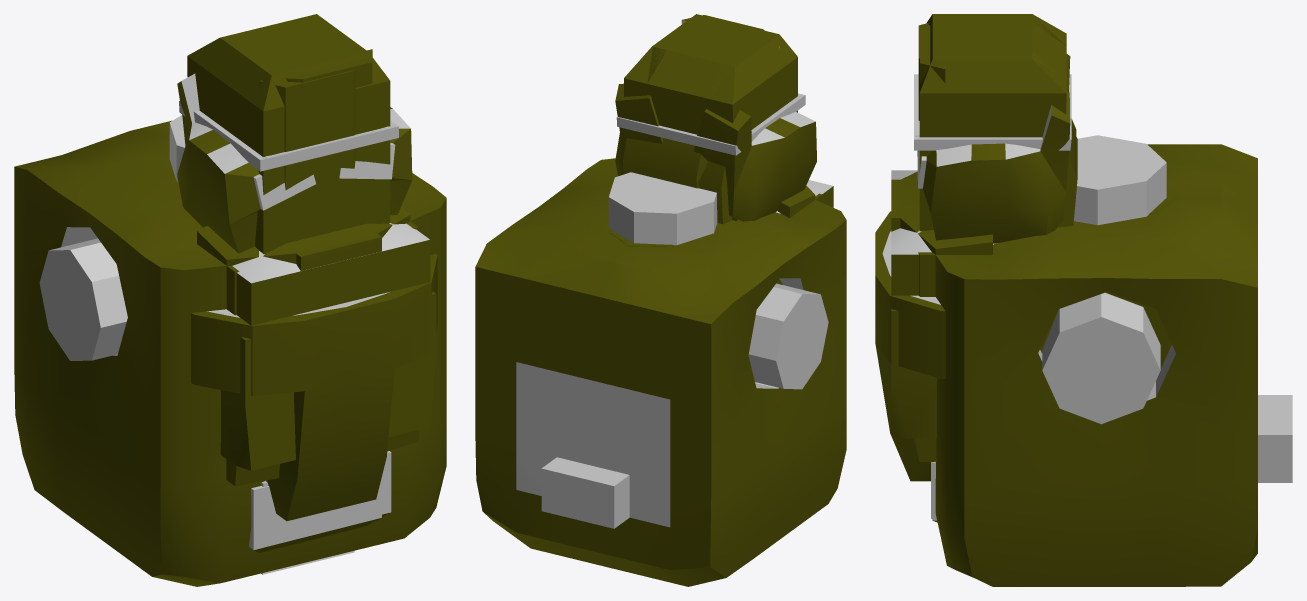
File: robot.obj
3 views of the same model, side by side, from view 1: azimuth 30°, elevation 25°; view 2: azimuth 150°, elevation 25°; view 3: azimuth 270°, elevation 25° (orthographic). The views are drawn at different scales.
Visible parts, largest first — view 1: 2_Core_Cube.016, 2_Hips/waist_Cube.023, 4_Upper_leg.L_Cube.040, 2_Core_Lower_Cube.022, 4_Lower_Leg.L_Cube.042, 4_Upper_leg.R_Cube.026, 3_Forearm.L_Cube.036, 3_Forearm.R_Cube.021, 4_Lower_Leg.R_Cube.028; view 2: 2_Core_Cube.016, 4_Upper_leg.L_Cube.040, 3_Forearm.L_Cube.036, 4_Upper_leg.R_Cube.026, 4_Lower_Leg.R_Cube.028, 3_Forearm.R_Cube.021, 4_Lower_Leg.L_Cube.042; view 3: 2_Core_Cube.016, 4_Upper_leg.R_Cube.026, 3_Forearm.R_Cube.021, 2_Hips/waist_Cube.023, 4_Upper_leg.L_Cube.040, 2_Core_Lower_Cube.022, 4_Lower_Leg.R_Cube.028.
Boxes of the visible parts, x1,y1,x2,y2 form: 2_Core_Cube.016: [14, 115, 446, 586]; 2_Hips/waist_Cube.023: [191, 253, 437, 520]; 4_Upper_leg.L_Cube.040: [179, 14, 390, 254]; 2_Core_Lower_Cube.022: [220, 223, 436, 470]; 4_Lower_Leg.L_Cube.042: [249, 70, 381, 574]; 4_Upper_leg.R_Cube.026: [222, 14, 398, 236]; 3_Forearm.L_Cube.036: [177, 73, 315, 253]; 3_Forearm.R_Cube.021: [339, 107, 412, 215]; 4_Lower_Leg.R_Cube.028: [261, 49, 391, 516]; 2_Core_Cube.016: [475, 158, 846, 586]; 4_Upper_leg.L_Cube.040: [642, 14, 805, 221]; 3_Forearm.L_Cube.036: [694, 109, 816, 221]; 4_Upper_leg.R_Cube.026: [616, 14, 798, 148]; 4_Lower_Leg.R_Cube.028: [622, 15, 764, 188]; 3_Forearm.R_Cube.021: [615, 83, 663, 176]; 4_Lower_Leg.L_Cube.042: [698, 45, 779, 224]; 2_Core_Cube.016: [891, 135, 1292, 586]; 4_Upper_leg.R_Cube.026: [914, 14, 1071, 231]; 3_Forearm.R_Cube.021: [917, 91, 1070, 243]; 2_Hips/waist_Cube.023: [875, 211, 1058, 481]; 4_Upper_leg.L_Cube.040: [914, 14, 1071, 136]; 2_Core_Lower_Cube.022: [891, 170, 993, 438]; 4_Lower_Leg.R_Cube.028: [920, 25, 1077, 522].
Size of the model in its own units: 2.2 by 3.39 by 2.53.
